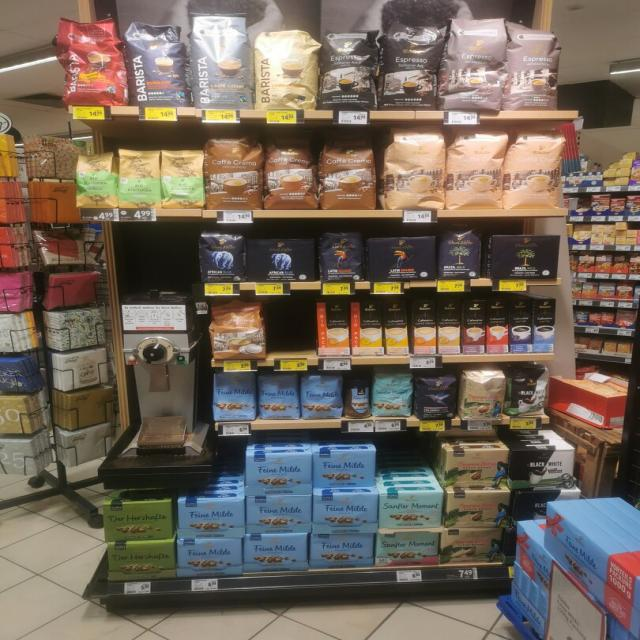AB Bohne: (197, 232, 246, 284)
AB Gemahlen: (246, 239, 318, 282)
Athiopien Bohne: (74, 151, 118, 209)
Athiopien Gemahlen: (118, 148, 162, 209), (161, 150, 204, 210)
BM Bohne: (438, 227, 482, 281)
BM Gemahlen: (488, 234, 562, 280)
BW Bohne: (509, 366, 551, 418)
Barista CB: (253, 28, 319, 110)
Barista CC: (188, 11, 254, 108)
Barista Espresso: (124, 18, 191, 107)
Barista Kolumbien: (55, 14, 128, 107)
C Fino Bohne: (417, 374, 458, 421)
CC Mild: (385, 125, 446, 210), (447, 126, 506, 210), (508, 124, 566, 208)
CC Vollmundig 36 Pads: (204, 134, 262, 210), (318, 138, 378, 210), (263, 135, 318, 210), (208, 300, 267, 360)
Colombia BB Bohne: (463, 373, 505, 421)
Colombia BB Gemahlen: (446, 450, 508, 488), (446, 492, 511, 528), (442, 530, 504, 562)
Empty Shelf: (268, 300, 316, 358)
Espresso Aromatisch: (446, 19, 506, 111), (507, 18, 561, 112)
Espresso S Art: (380, 24, 441, 110), (322, 26, 377, 110)
FM Bohne: (212, 371, 257, 422), (259, 371, 300, 421), (301, 374, 343, 421)
FM Gemahlen: (245, 453, 312, 496), (312, 494, 378, 534), (176, 538, 243, 577), (177, 500, 245, 537), (246, 495, 312, 533), (244, 534, 307, 572), (312, 451, 376, 488), (310, 533, 374, 569)
FM Instant: (345, 377, 370, 420)
Herzhatfe Mundig: (101, 503, 172, 542), (106, 542, 175, 581)
LG Bohne: (320, 229, 364, 283)
LG Gemahlen: (366, 236, 437, 282)
SM Bohne: (372, 372, 415, 418)
SM Gemahlen: (378, 491, 444, 529), (376, 531, 439, 567)
Simo CCMild: (351, 302, 382, 354)
Simo CCMild bigpack: (384, 299, 409, 354)
Simo CCVollmundig: (316, 302, 350, 355)
Simo CCVollmundig bigpack: (414, 300, 437, 354)
Simo Decaff: (439, 300, 461, 354)
Simo Es Brazil: (486, 299, 509, 353)
Simo Es Caramel: (464, 300, 486, 353)
Simo Es Kraft: (509, 298, 533, 352)
Simo Es Vanilla: (534, 298, 556, 352)
